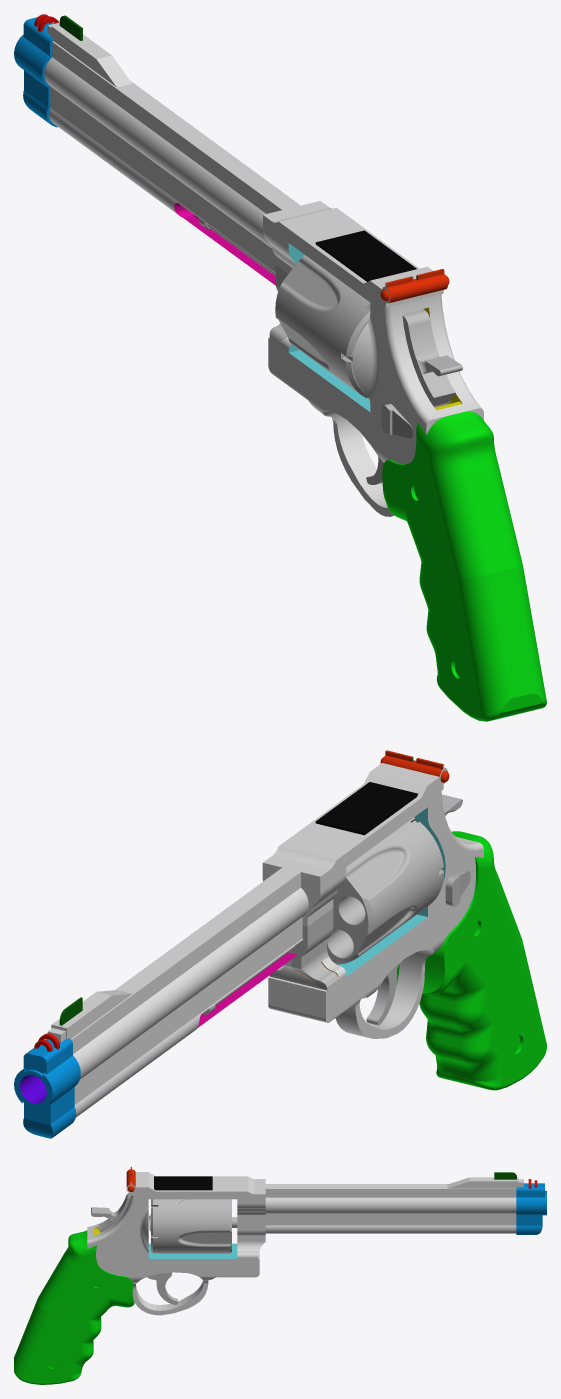
3 renders of one model, top to bottom at view 1: azimuth 30°, elevation 25°; view 2: azimuth 150°, elevation 25°; view 3: azimuth 270°, elevation 25°, orthographic. The views are drawn at different scales.
Visible parts, largest first — view 1: Body1, Body4, Body14; view 2: Body1, Body4, Body5, Body12, Body13; view 3: Body1, Body4, Body14, Body12.
Boxes of the visible parts, x1,y1,x2,y2 form: Body1: [14, 14, 546, 721]; Body4: [275, 255, 370, 398]; Body14: [402, 309, 462, 407]; Body1: [14, 750, 546, 1138]; Body4: [327, 817, 444, 964]; Body5: [291, 908, 337, 988]; Body12: [366, 960, 402, 1025]; Body13: [445, 870, 470, 906]; Body1: [14, 1167, 546, 1384]; Body4: [149, 1199, 237, 1253]; Body14: [91, 1192, 130, 1232]; Body12: [147, 1272, 177, 1304].
Size of the model in its own units: 4.44 by 16.23 by 38.22.
